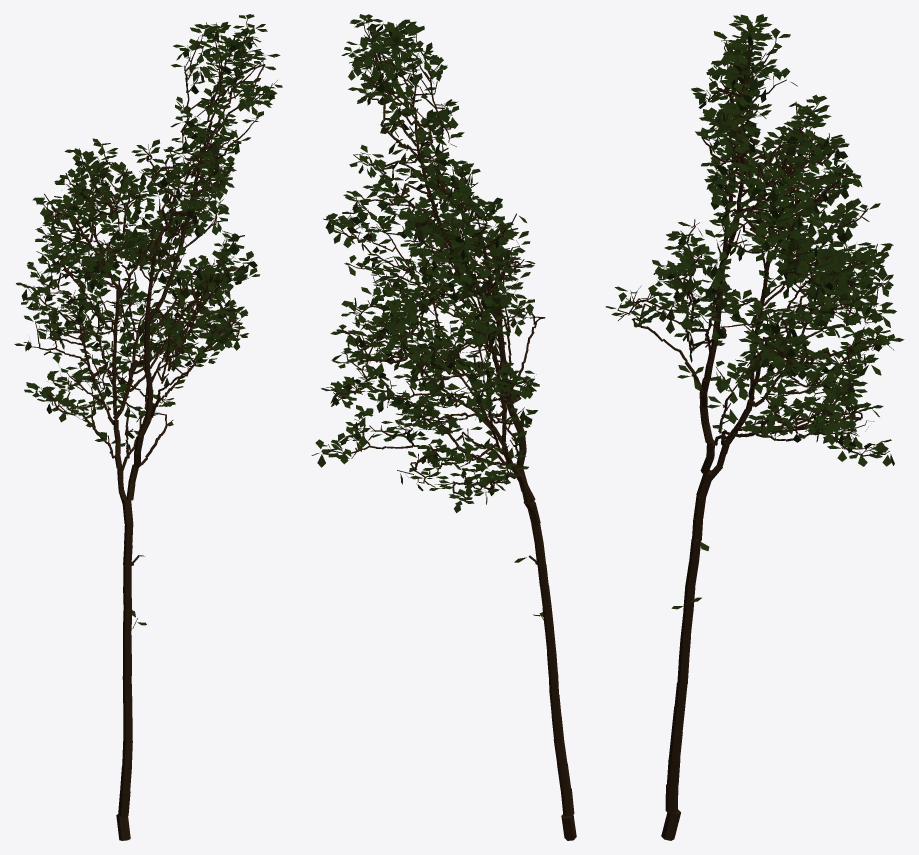
Rendered from tree_294.obj.
3 views of the same model, side by side, from view 1: azimuth 30°, elevation 25°; view 2: azimuth 150°, elevation 25°; view 3: azimuth 270°, elevation 25° (orthographic). The views are drawn at different scales.
Visible parts, largest first — view 1: Leaves, TrunkAndBranches; view 2: Leaves, TrunkAndBranches; view 3: Leaves, TrunkAndBranches.
Boxes of the visible parts, <box> form: Leaves: <box>14,14,282,625</box>; TrunkAndBranches: <box>23,18,275,840</box>; Leaves: <box>311,14,543,616</box>; TrunkAndBranches: <box>321,19,576,840</box>; Leaves: <box>605,14,904,609</box>; TrunkAndBranches: <box>617,22,890,840</box>.
Bounding box in the file's own units: 5.46 × 18.16 × 5.52.
